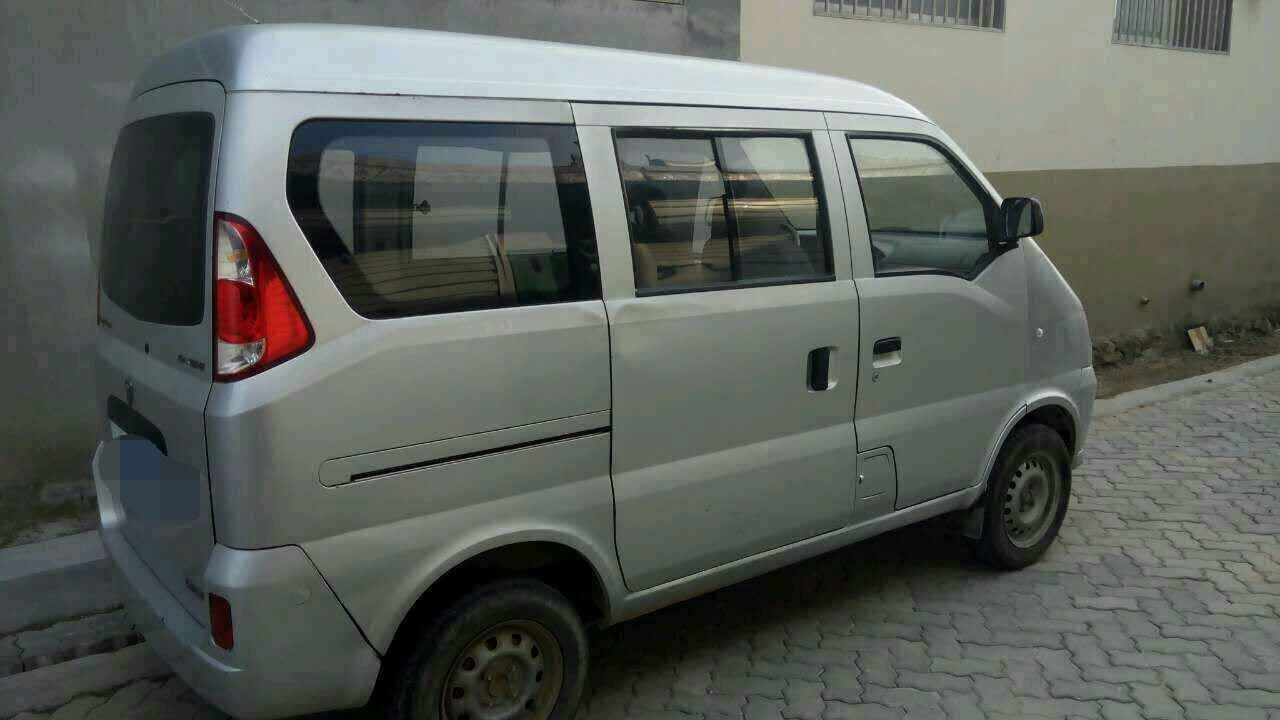minibus: (62, 34, 1111, 704)
